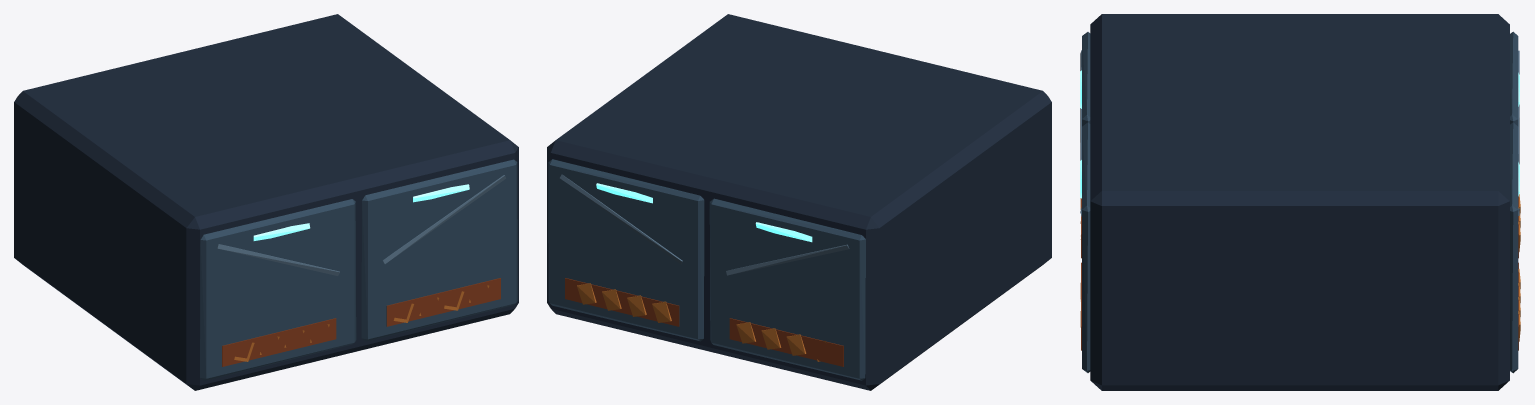
Rendered from frost_gate-lod1.glb.
3 renders of one model, left to right at view 1: azimuth 30°, elevation 25°; view 2: azimuth 150°, elevation 25°; view 3: azimuth 270°, elevation 25°, orthographic. The views are drawn at different scales.
Parts seen in each view (by area): view 1: frost_gate; view 2: frost_gate; view 3: frost_gate.
Part boxes in pixels (<box>): frost_gate: <box>14,14,518,390</box>; frost_gate: <box>547,14,1051,390</box>; frost_gate: <box>1080,14,1520,390</box>.
Size of the model in its own units: 2 by 1 by 2.
